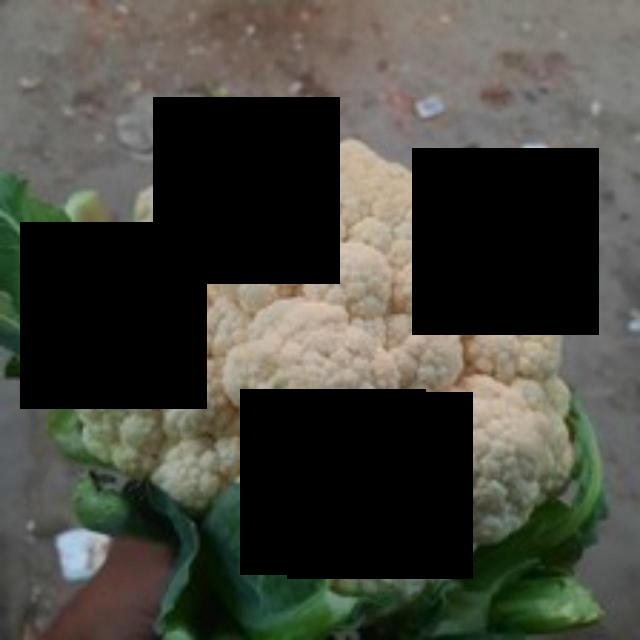cauliflower: (82, 134, 591, 574)
